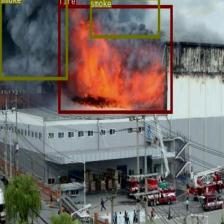fire: (58, 5, 172, 113)
smoke: (0, 0, 67, 80), (90, 0, 160, 37)
